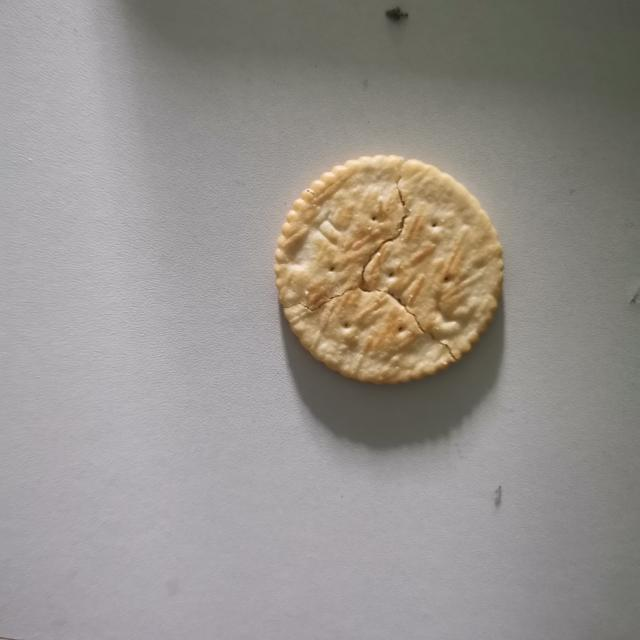Fracture: (290, 160, 466, 364)
